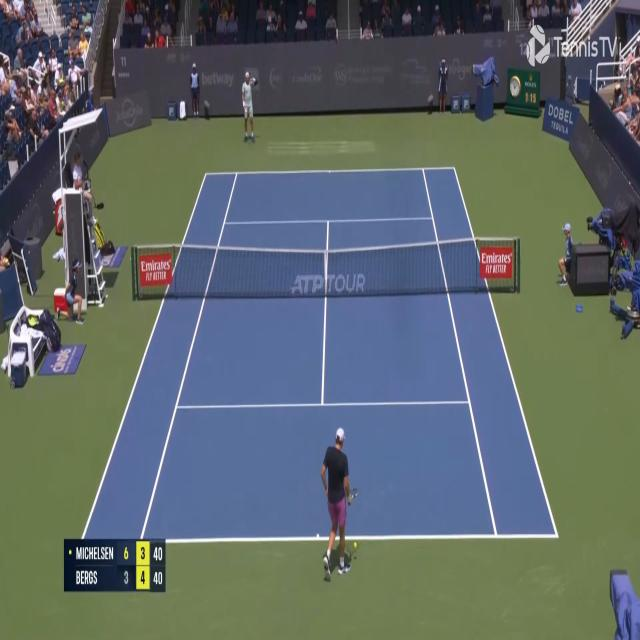tennis-player: (320, 426, 359, 584), (242, 70, 258, 143)
